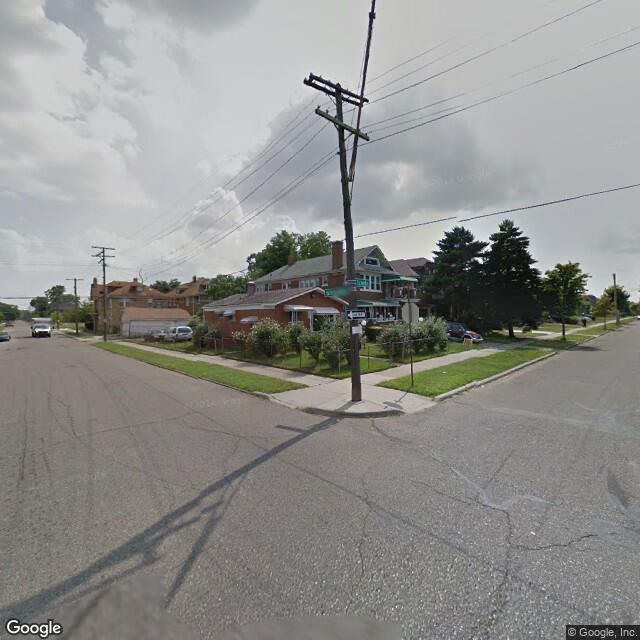litter: (440, 366, 448, 376), (476, 383, 487, 390)
